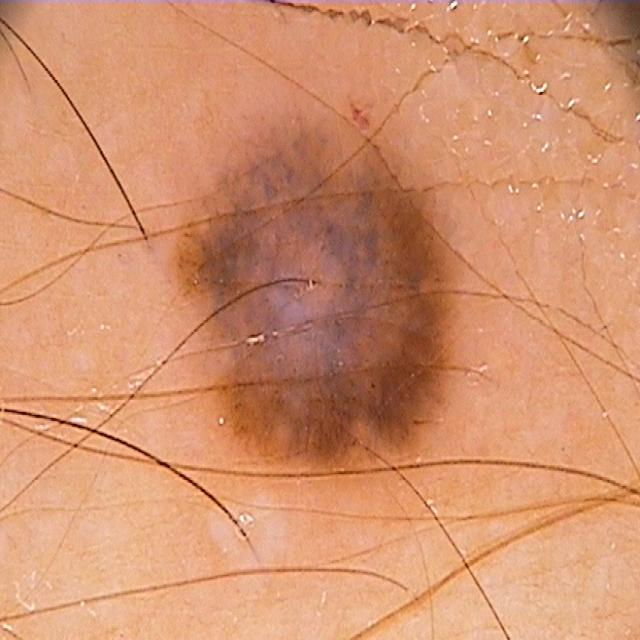Melanoma: (144, 88, 505, 494)
